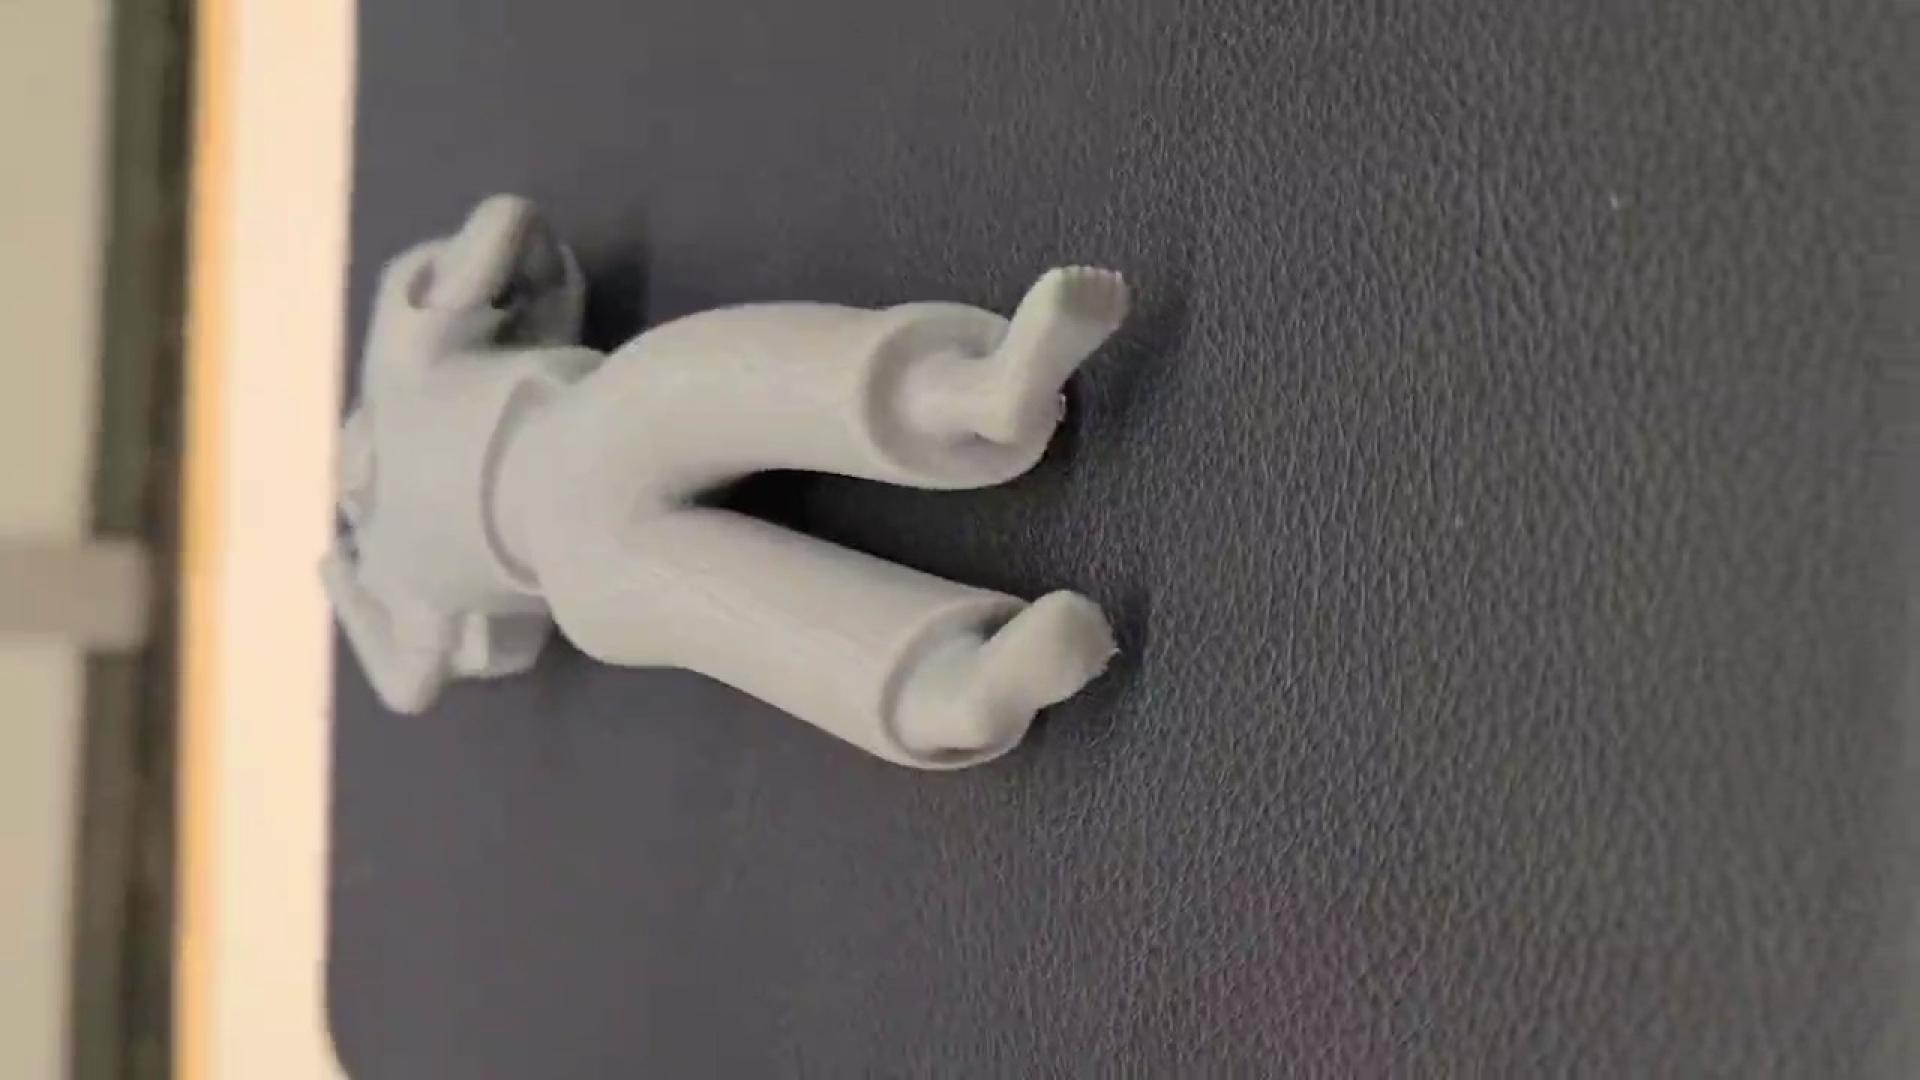Bad-style: (315, 189, 1131, 785)
